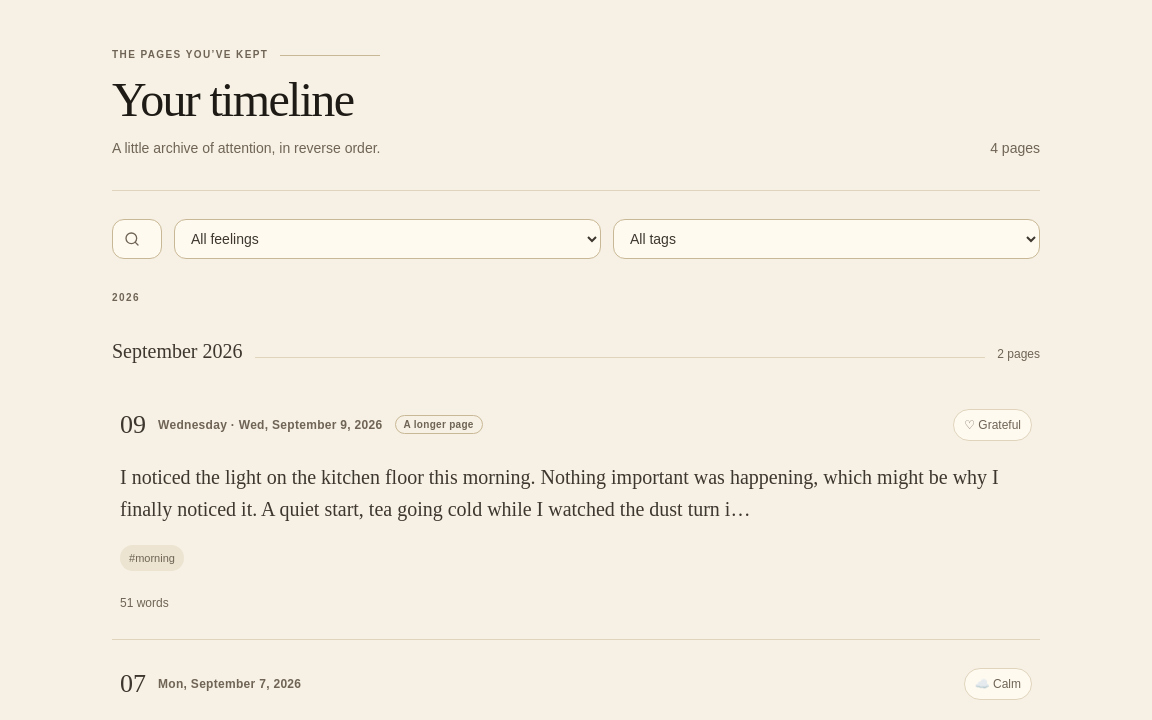
Scenario: Timeline › filters by search and clears
This screenshot has width=1152, height=720.
Check: the link with test id "timeline-entry-entry-1" is shown, box left=112, top=381, right=1040, bottom=640
Type "deadline" into the field with test id "timeline-search-input" at (137, 239), box left=112, top=219, right=162, bottom=259
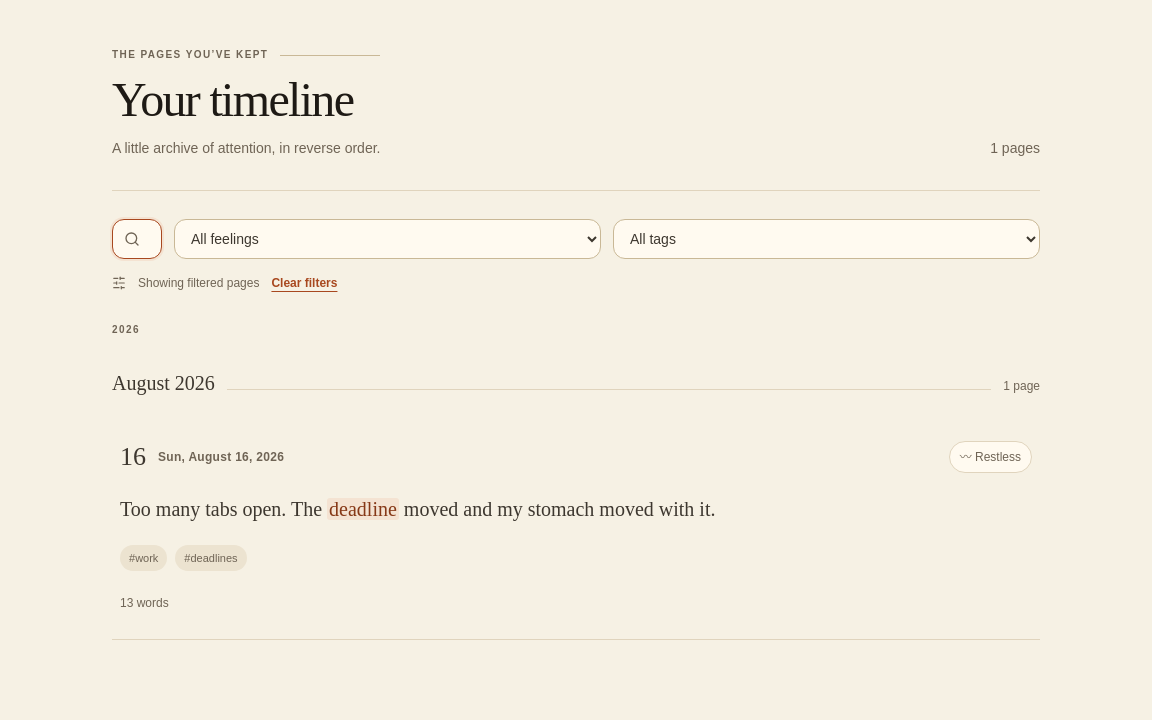
Check: the text with test id "timeline-entry-count" reads "1 pages", box left=990, top=138, right=1040, bottom=158
Click the button with test id "clear-timeline-filters-button" at (304, 283), box left=271, top=275, right=337, bottom=291
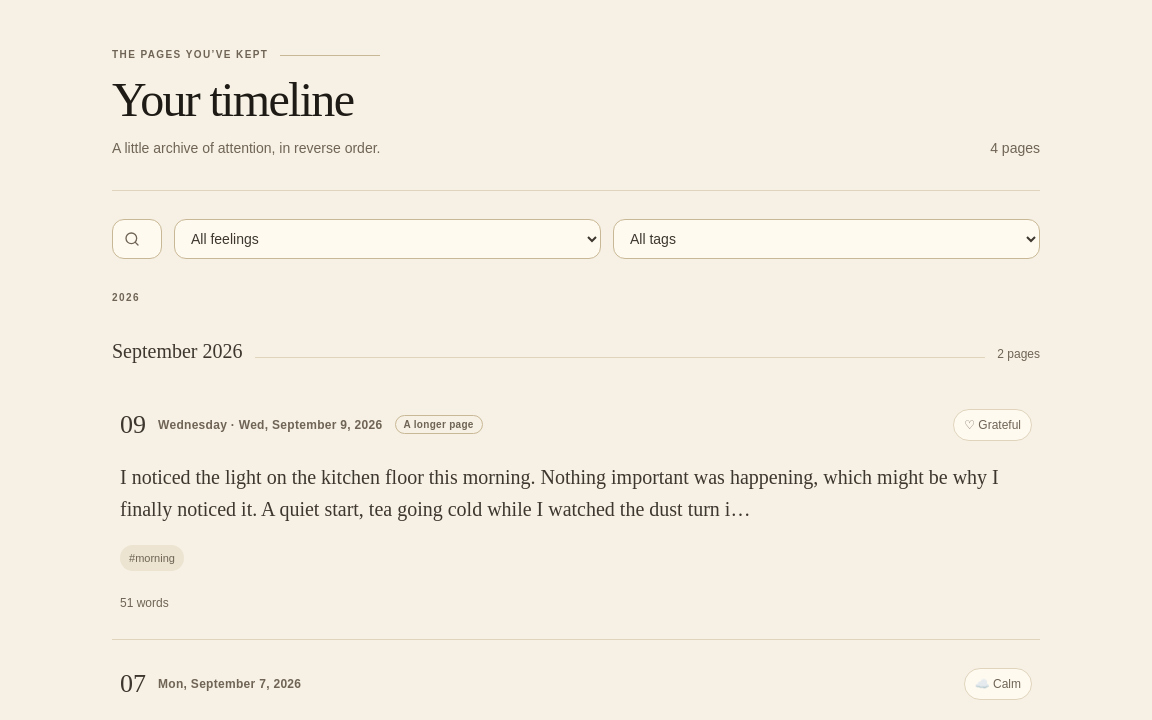
Check: the text with test id "timeline-entry-count" reads "4 pages", box left=990, top=138, right=1040, bottom=158
